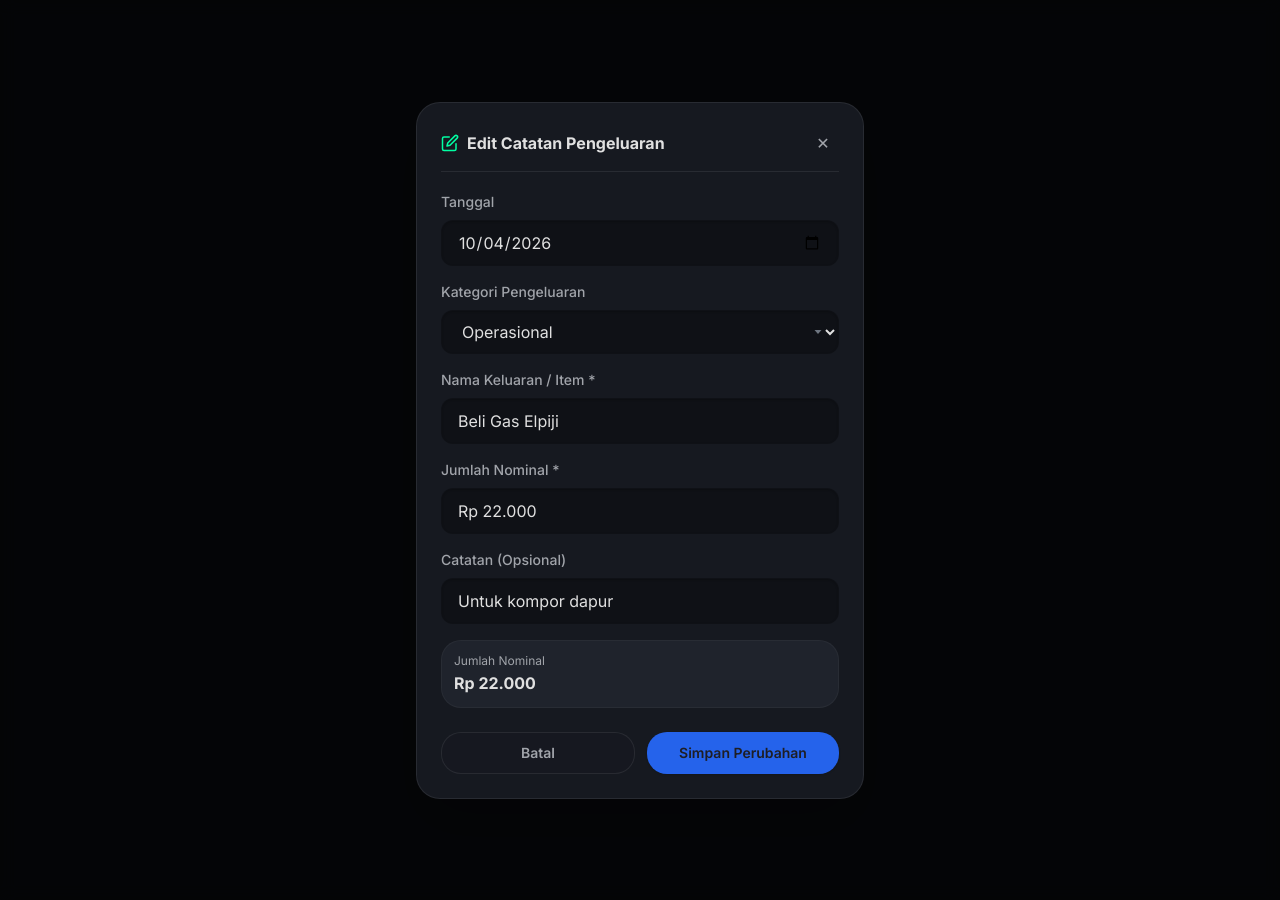
it: EditExpenseModal & Currency Masking › EditExpenseModal component › updates masked nominal when typing numbers
Replace the text in the field showing "Rp 22.000" below "Jumlah Nominal *" with "35000" at (640, 510), box [441, 488, 839, 534]
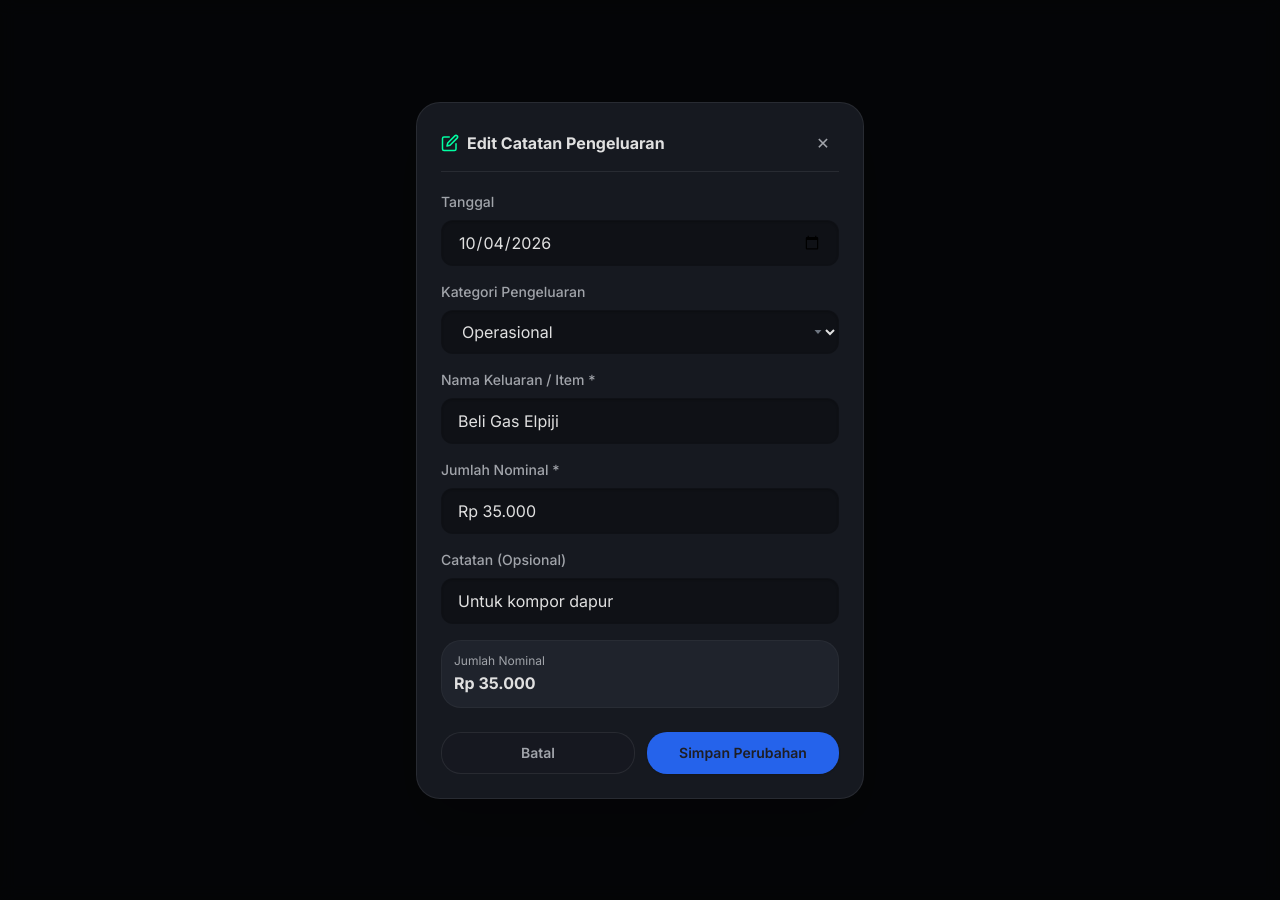
expect the field showing "Rp 35.000" below "Jumlah Nominal *" is shown: met, box [441, 488, 839, 534]
